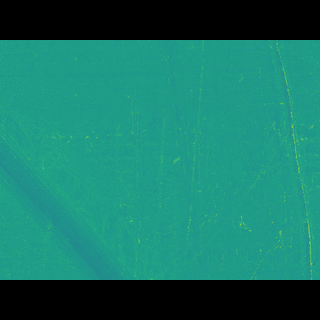Loch: (0, 123, 179, 252), (46, 121, 320, 192), (261, 69, 319, 251), (155, 69, 212, 250)
